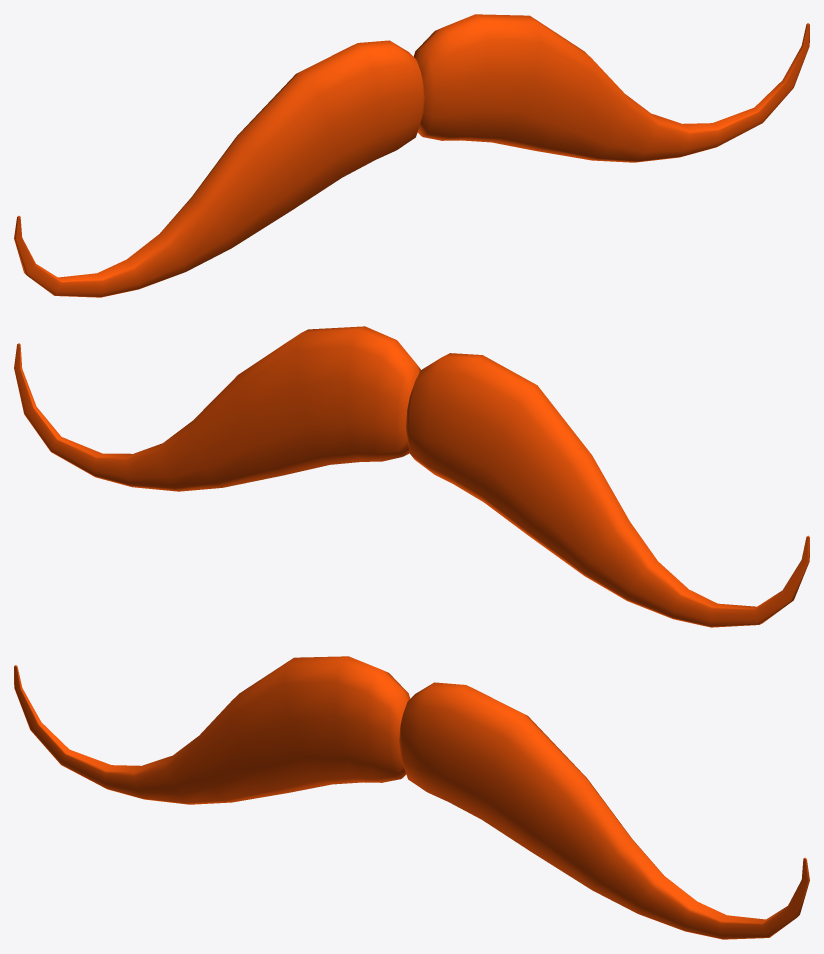
The model's file is Beard_02_06.fbx.
3 renders of one model, top to bottom at view 1: azimuth 30°, elevation 25°; view 2: azimuth 150°, elevation 25°; view 3: azimuth 330°, elevation 25°, orthographic.
Parts seen in each view (by area): view 1: Beard_02_06; view 2: Beard_02_06; view 3: Beard_02_06.
Boxes of the visible parts, x1,y1,x2,y2 form: Beard_02_06: (14,14,809,297); Beard_02_06: (14,326,809,627); Beard_02_06: (14,656,809,939).
Bounding box in the file's own units: 29.8 × 7.17 × 2.32.
